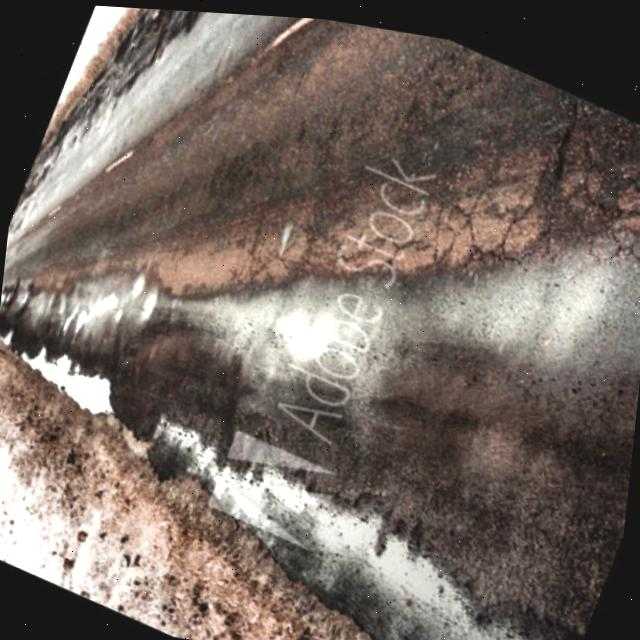Pothole: (0, 284, 630, 640), (128, 257, 194, 345), (73, 272, 129, 339), (122, 249, 169, 305)
